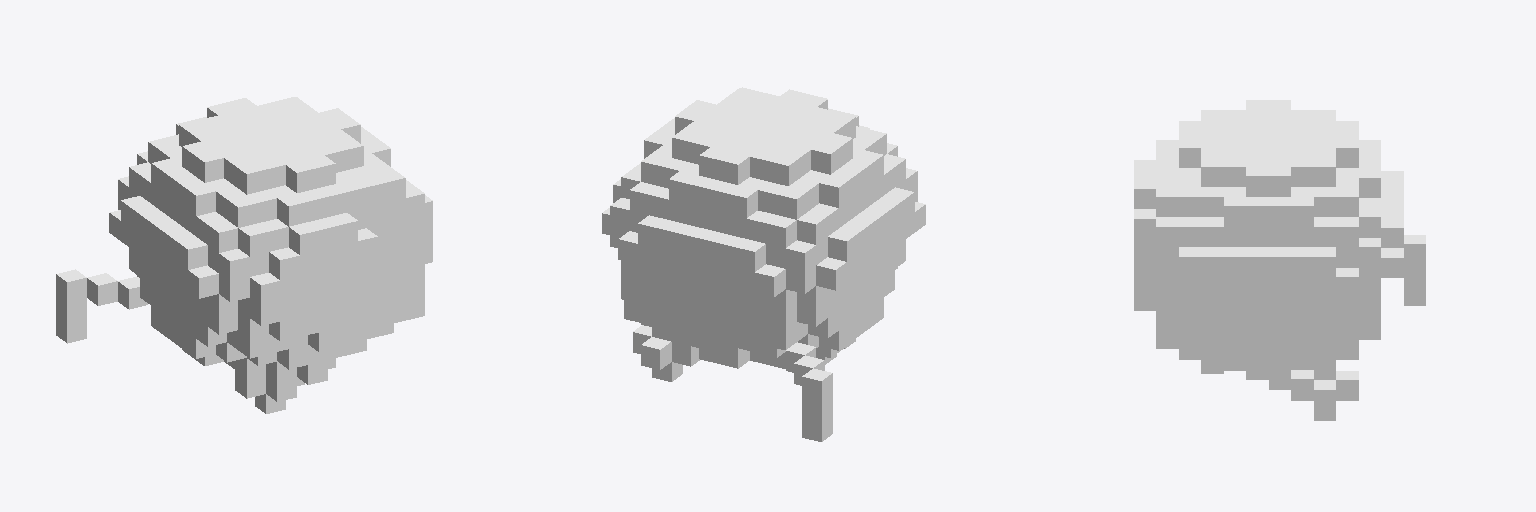
The model's file is PookaWalk2Quarter.obj.
3 views of the same model, side by side, from view 1: azimuth 30°, elevation 25°; view 2: azimuth 150°, elevation 25°; view 3: azimuth 270°, elevation 25° (orthographic).
Parts seen in each view (by area): view 1: object 1; view 2: object 1; view 3: object 1.
Part boxes in pixels (bbox=[...]): object 1: bbox=[56, 97, 432, 413]; object 1: bbox=[602, 87, 925, 441]; object 1: bbox=[1134, 100, 1425, 420].
Size of the model in its own units: 1.3 by 1.2 by 1.3.